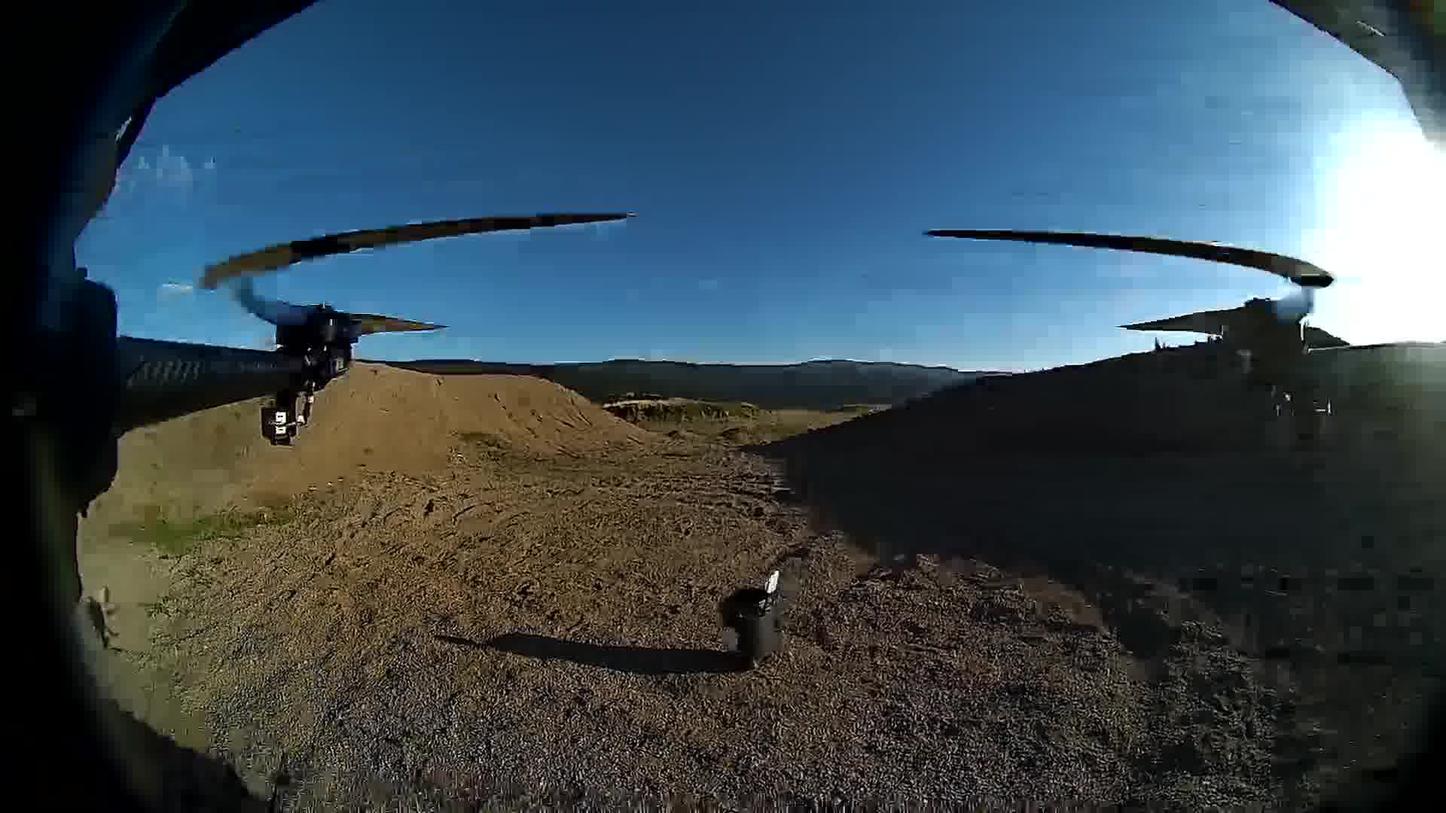Target: (718, 627, 740, 651), (765, 572, 779, 593)
